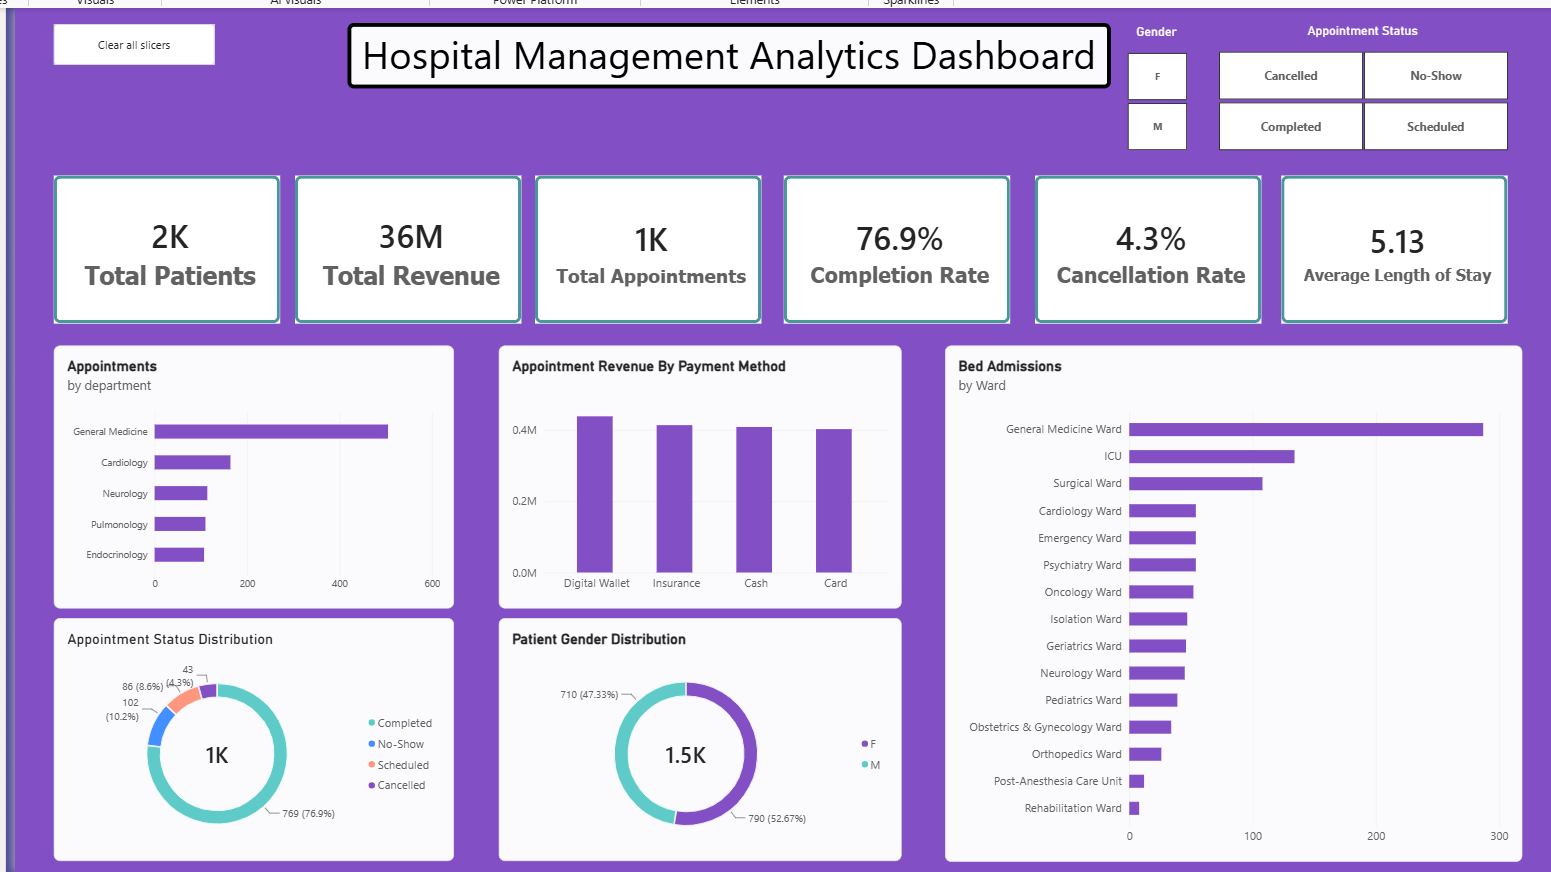

The dashboard page shown, as its layout file describes it:
{"tool":"powerbi","page":{"name":"Page 1","canvas":[1920,1080],"ordinal":0},"visuals":[{"type":"textbox","box":[415.1,19.2,952.3,82],"z":0},{"type":"cardVisual","fields":{"Data":["Table.Total Patients"]},"box":[48.8,209.3,282.6,184.9],"z":1000},{"type":"cardVisual","fields":{"Data":["Table.Completion Rate"]},"box":[959.3,209.3,282.6,184.9],"z":2000},{"type":"cardVisual","fields":{"Data":["Table.Total Appointments"]},"box":[648.8,209.3,282.6,184.9],"z":3000},{"type":"cardVisual","fields":{"Data":["Table.Total Revenue"]},"box":[348.8,209.3,282.6,184.9],"z":4000},{"type":"cardVisual","fields":{"Data":["Table.Cancellation Rate"]},"box":[1271.5,209.3,282.6,184.9],"z":5000},{"type":"cardVisual","fields":{"Data":["Table.Average Length of Stay"]},"box":[1578.5,209.3,282.6,184.9],"z":6000},{"type":"clusteredBarChart","title":"Appointments","fields":{"Category":["Department.dept_Name"],"Y":["CountNonNull(Appointment.appoIntment_Id)"]},"box":[48.8,420.4,498.8,327.9],"z":6001},{"type":"donutChart","title":"Appointment Status Distribution","fields":{"Category":["Appointment.appointment_status"],"Y":["CountNonNull(Appointment.appoIntment_Id)"]},"box":[48.8,760.5,498.8,303.5],"z":6002},{"type":"donutChart","title":"Patient Gender Distribution","fields":{"Category":["Patients.Gender"],"Y":["CountNonNull(Patients.patient_Id)"]},"box":[603.5,760.5,502.3,303.5],"z":6003},{"type":"clusteredBarChart","title":"Bed Admissions","fields":{"Category":["Ward.ward_Name"],"Y":["CountNonNull(BedRecords.admission_Id)"]},"box":[1159.9,420.4,720.4,643.6],"z":6004},{"type":"clusteredColumnChart","title":"Appointment Revenue By Payment Method","fields":{"Category":["Appointment.mode_of_payment"],"Y":["Sum(Appointment.payment_amount)"]},"box":[603.5,420.4,502.3,327.9],"z":6005},{"type":"slicer","title":"Gender","fields":{"Values":["Patients.Gender"]},"box":[1367.4,20.9,113.4,158.7],"z":6006},{"type":"slicer","title":"Appointment Status","fields":{"Values":["Appointment.appointment_status"]},"box":[1480.8,19.2,399.4,160.5],"z":6007},{"type":"actionButton","box":[48.8,20.9,200.6,50.6],"z":6008}]}

Visuals, with their boxes in screenshot pixels (x1, y1, x2, y2):
textbox: (347, 23, 1105, 89)
cardVisual - Table.Total Patients: (55, 175, 280, 322)
cardVisual - Table.Completion Rate: (780, 175, 1006, 322)
cardVisual - Table.Total Appointments: (533, 175, 758, 322)
cardVisual - Table.Total Revenue: (294, 175, 519, 322)
cardVisual - Table.Cancellation Rate: (1029, 175, 1254, 322)
cardVisual - Table.Average Length of Stay: (1274, 175, 1499, 322)
"Appointments" clusteredBarChart: (55, 343, 452, 604)
"Appointment Status Distribution" donutChart: (55, 614, 452, 856)
"Patient Gender Distribution" donutChart: (497, 614, 897, 856)
"Bed Admissions" clusteredBarChart: (940, 343, 1514, 856)
"Appointment Revenue By Payment Method" clusteredColumnChart: (497, 343, 897, 604)
"Gender" slicer: (1105, 25, 1196, 151)
"Appointment Status" slicer: (1196, 23, 1514, 151)
actionButton: (55, 25, 215, 65)
